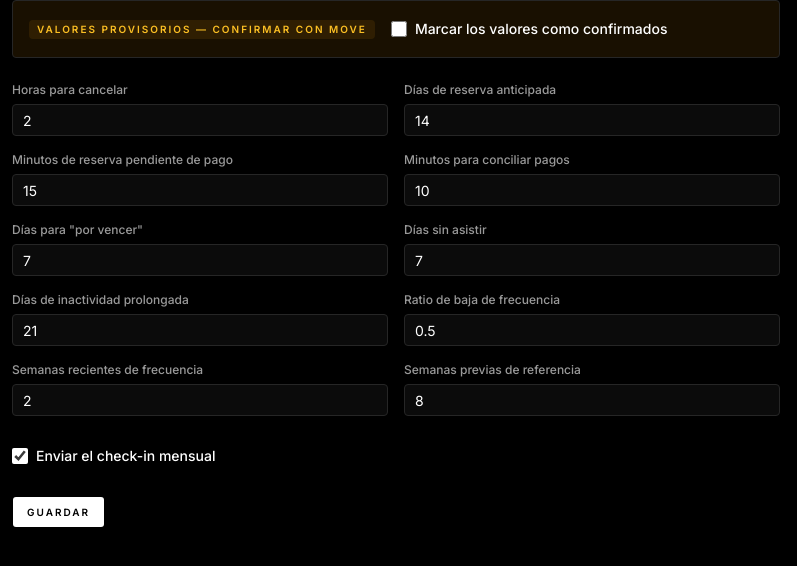
Test: RulesTab › blocks a prolonged inactivity value that is not above the days without attendance
This screenshot has width=797, height=566.
Step 1. Replace the text in the number field labelled "Días de inactividad prolongada" with "5" → (200, 330), box [12, 314, 388, 346]
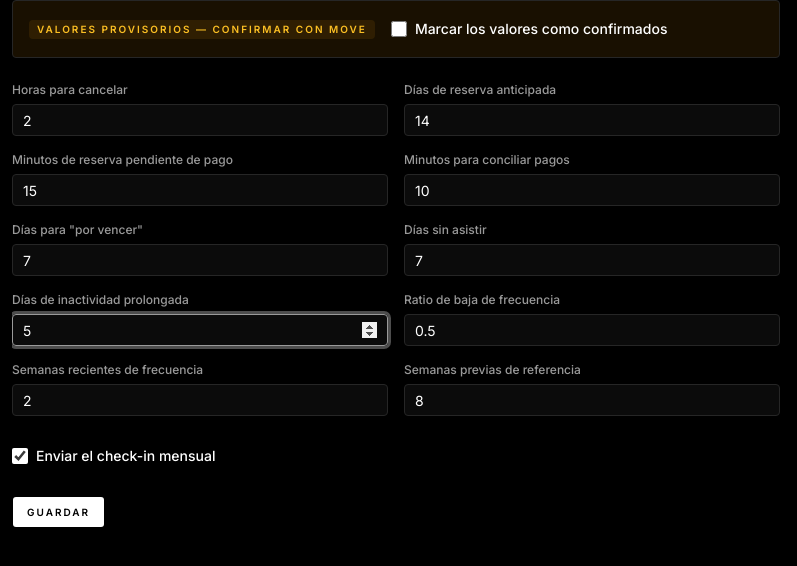
Step 2. Click the button "Guardar" → (59, 512), box [12, 496, 105, 528]
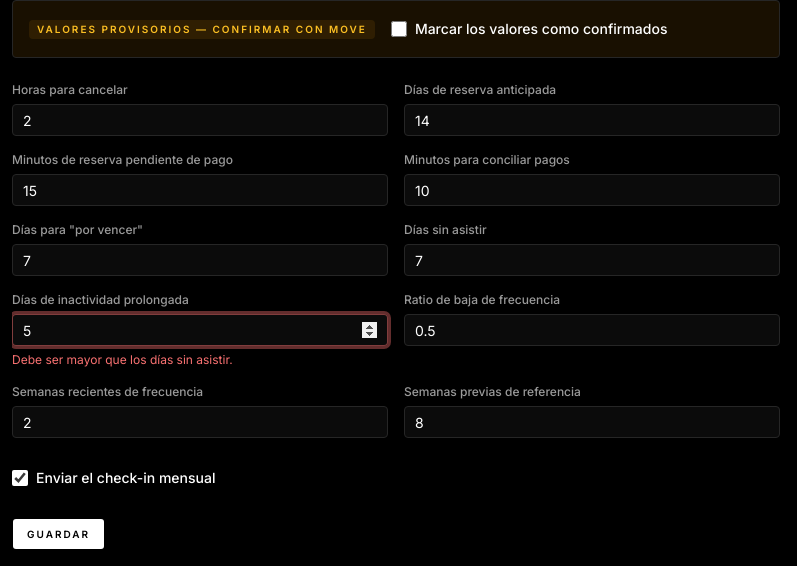
Now the text "Debe ser mayor que los días sin asistir." is shown, box [12, 352, 233, 367]
